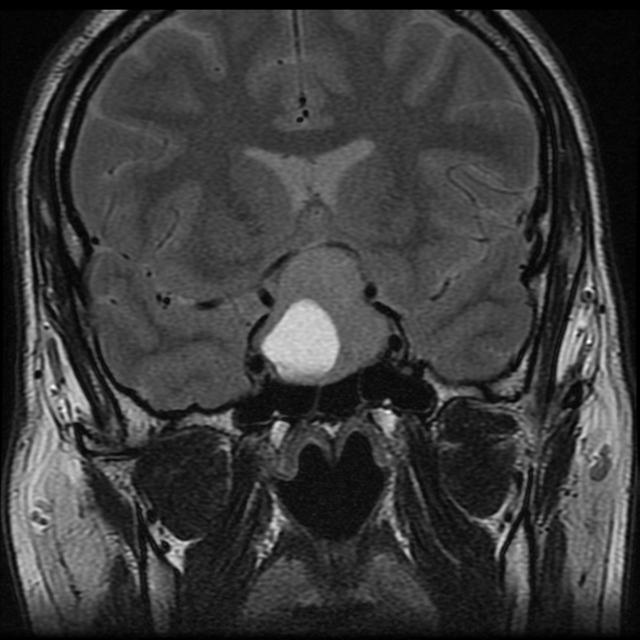Brain-Tumor: (249, 287, 362, 389)
